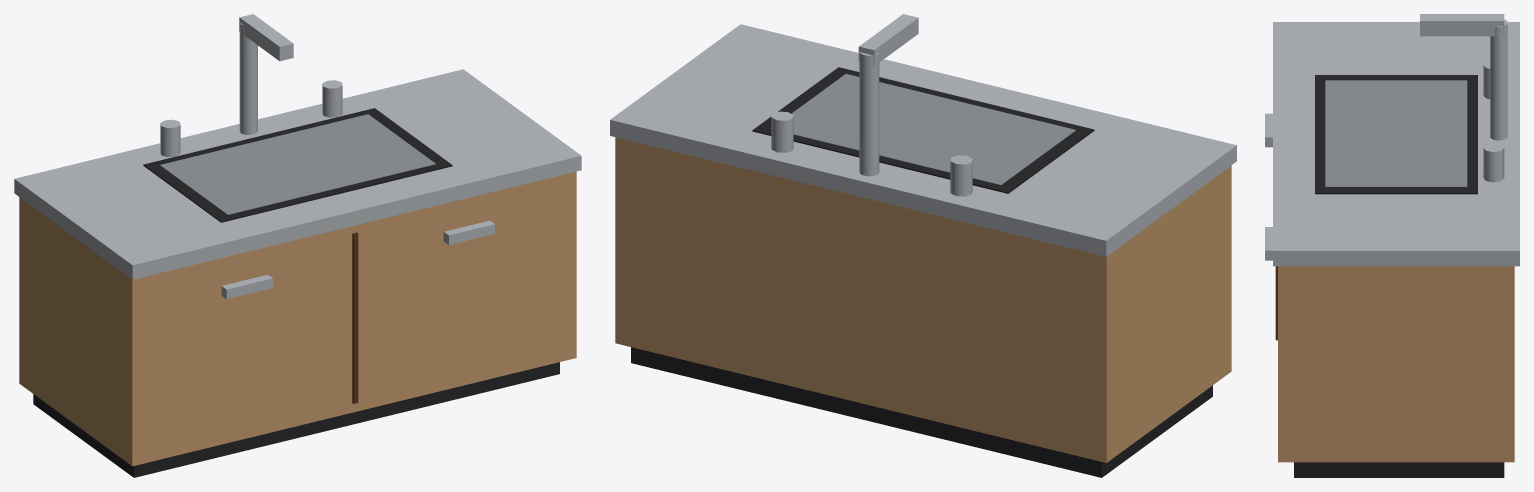
File: sink.glb
3 views of the same model, side by side, from view 1: azimuth 30°, elevation 25°; view 2: azimuth 150°, elevation 25°; view 3: azimuth 270°, elevation 25° (orthographic). The views are drawn at different scales.
Visible parts, largest first — view 1: sink; view 2: sink; view 3: sink.
Boxes of the visible parts, left/top/right/bottom form: sink: left=14, top=14, right=581, bottom=477; sink: left=610, top=14, right=1236, bottom=477; sink: left=1265, top=14, right=1519, bottom=477.
Bounding box in the file's own units: 1.94 × 1.39 × 0.9129.
